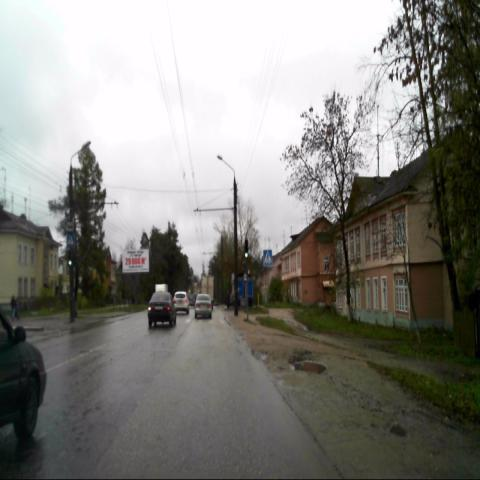5_19_1: (262, 249, 273, 267)
